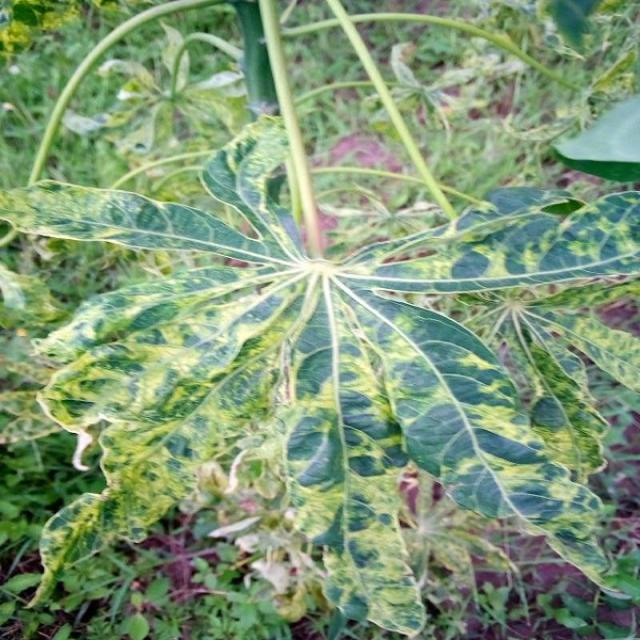cassava leaf: (4, 106, 638, 634)
